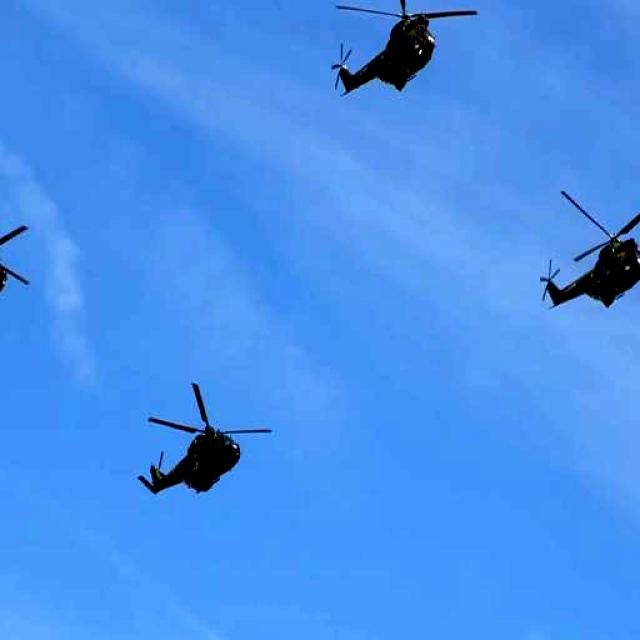drone: (130, 365, 269, 525), (539, 176, 640, 344), (318, 0, 466, 109), (0, 200, 34, 349)
